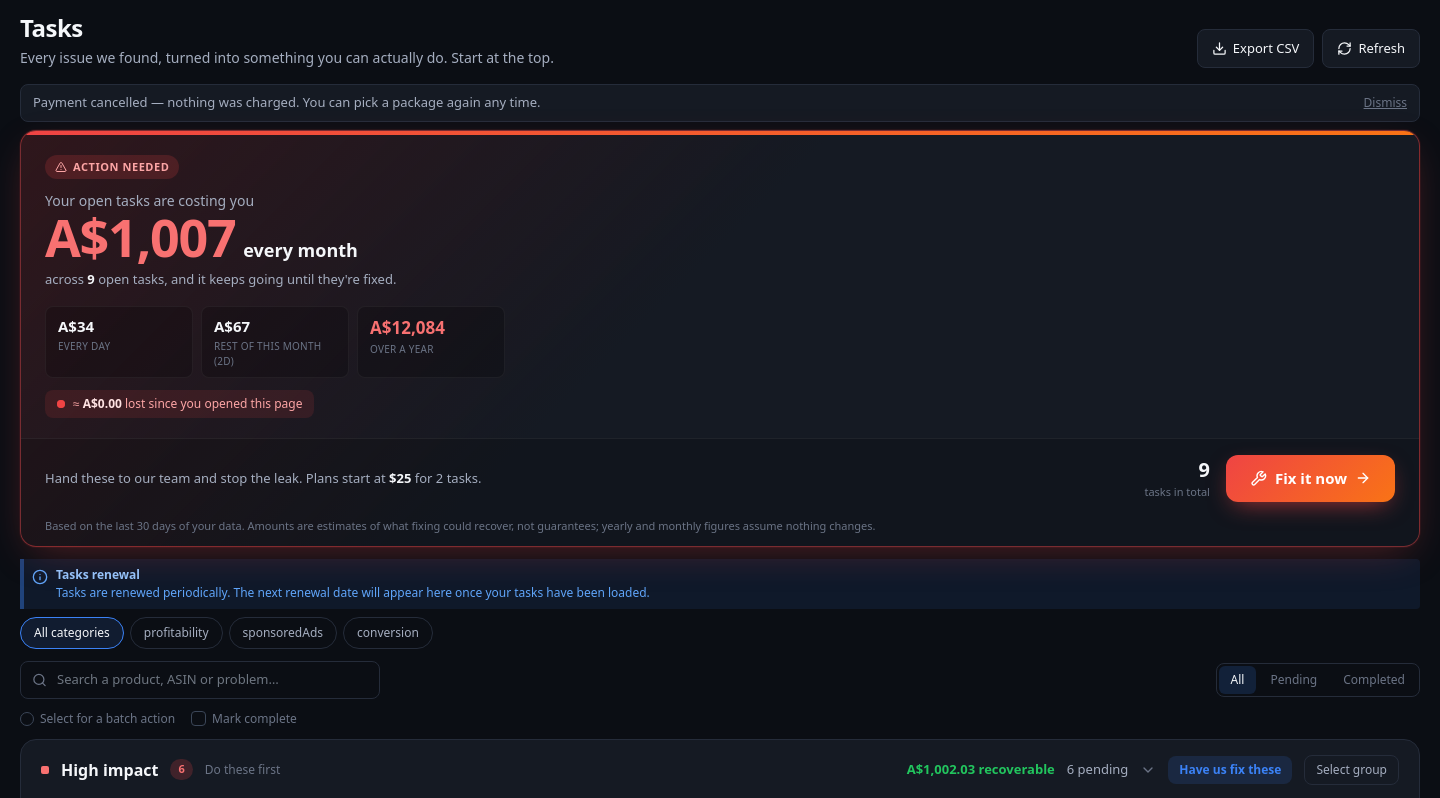
Scenario: Tasks page - Fix it › back from Stripe without paying: says nothing was charged
This screenshot has width=1440, height=798.
Expected: the text "Payment cancelled — nothing was charged" is shown, [33,93,540,111]
Click the button "Dismiss".
click(1385, 103)  # box [1364,95,1407,111]
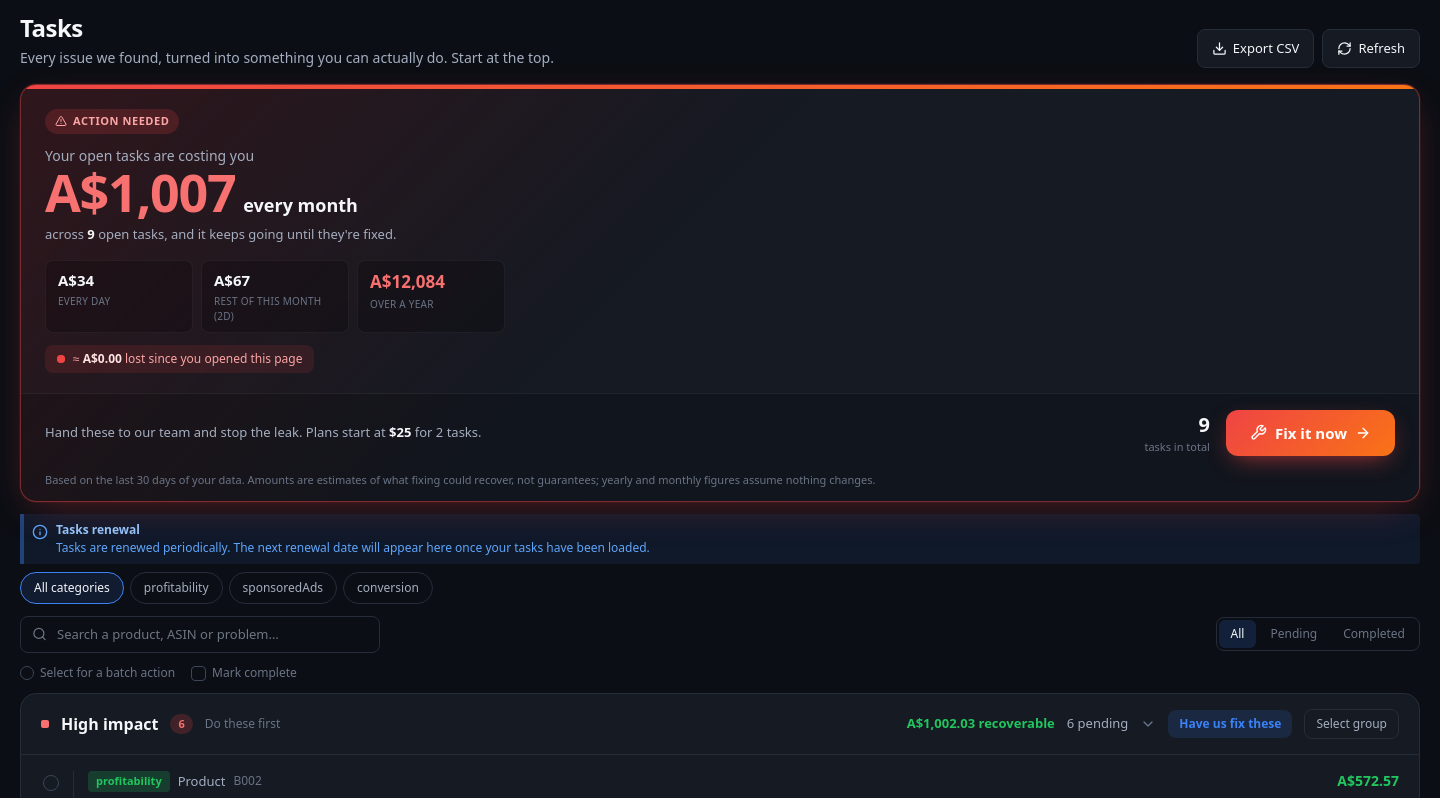
Now the text "Payment cancelled" is gone
